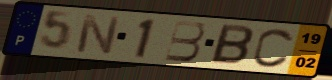1: (134, 17, 158, 59)
5: (39, 9, 74, 54)
B: (208, 22, 256, 67), (163, 19, 207, 63)
C: (250, 27, 296, 70)
N: (73, 13, 122, 56)
